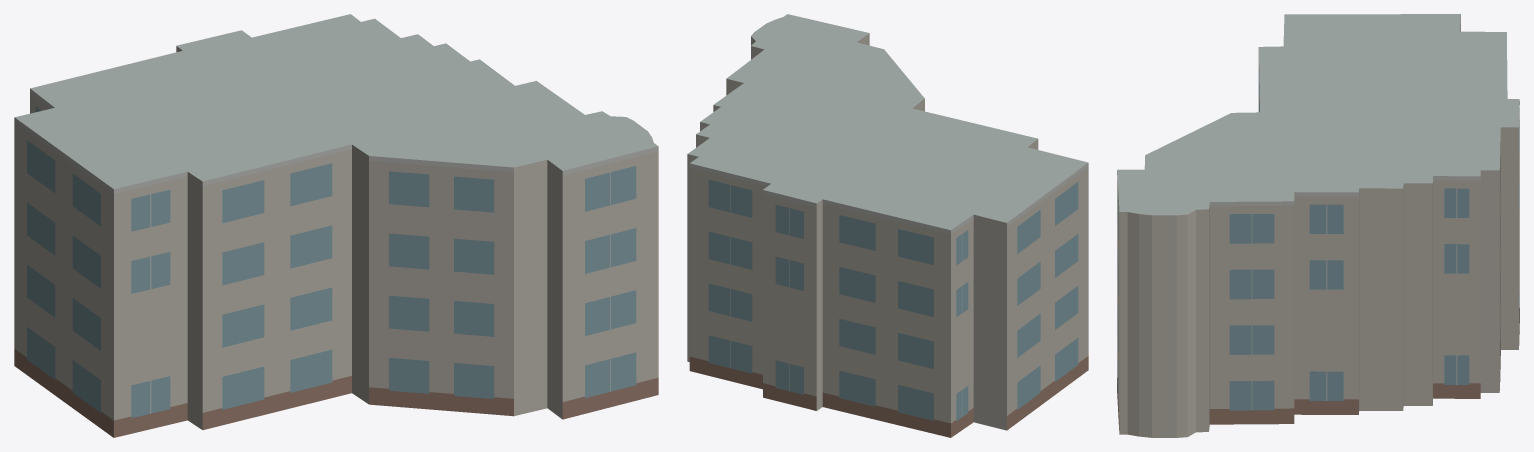
The model's file is survey-upis-32565075.glb.
3 views of the same model, side by side, from view 1: azimuth 30°, elevation 25°; view 2: azimuth 150°, elevation 25°; view 3: azimuth 270°, elevation 25° (orthographic). The views are drawn at different scales.
Visible parts, largest first — view 1: survey-upis-32565075.tmp; view 2: survey-upis-32565075.tmp; view 3: survey-upis-32565075.tmp.
Boxes of the visible parts, x1,y1,x2,y2 form: survey-upis-32565075.tmp: (14,14,658,437); survey-upis-32565075.tmp: (687,14,1088,437); survey-upis-32565075.tmp: (1117,14,1519,437).
Bounding box in the file's own units: 24.35 × 12.55 × 20.58.
